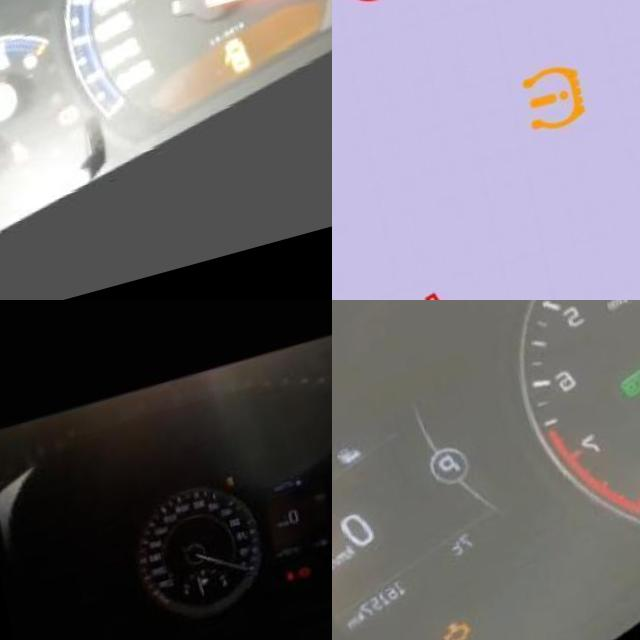Seat Belt: (0, 135, 7, 164)
